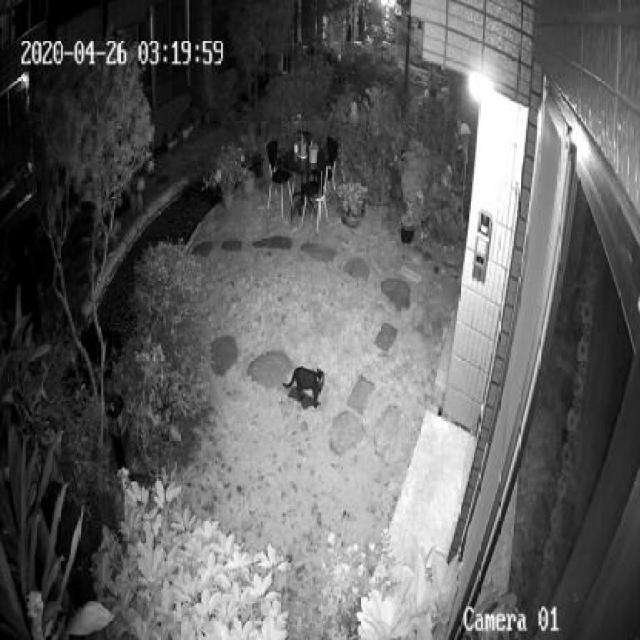animals: (281, 360, 328, 409)
